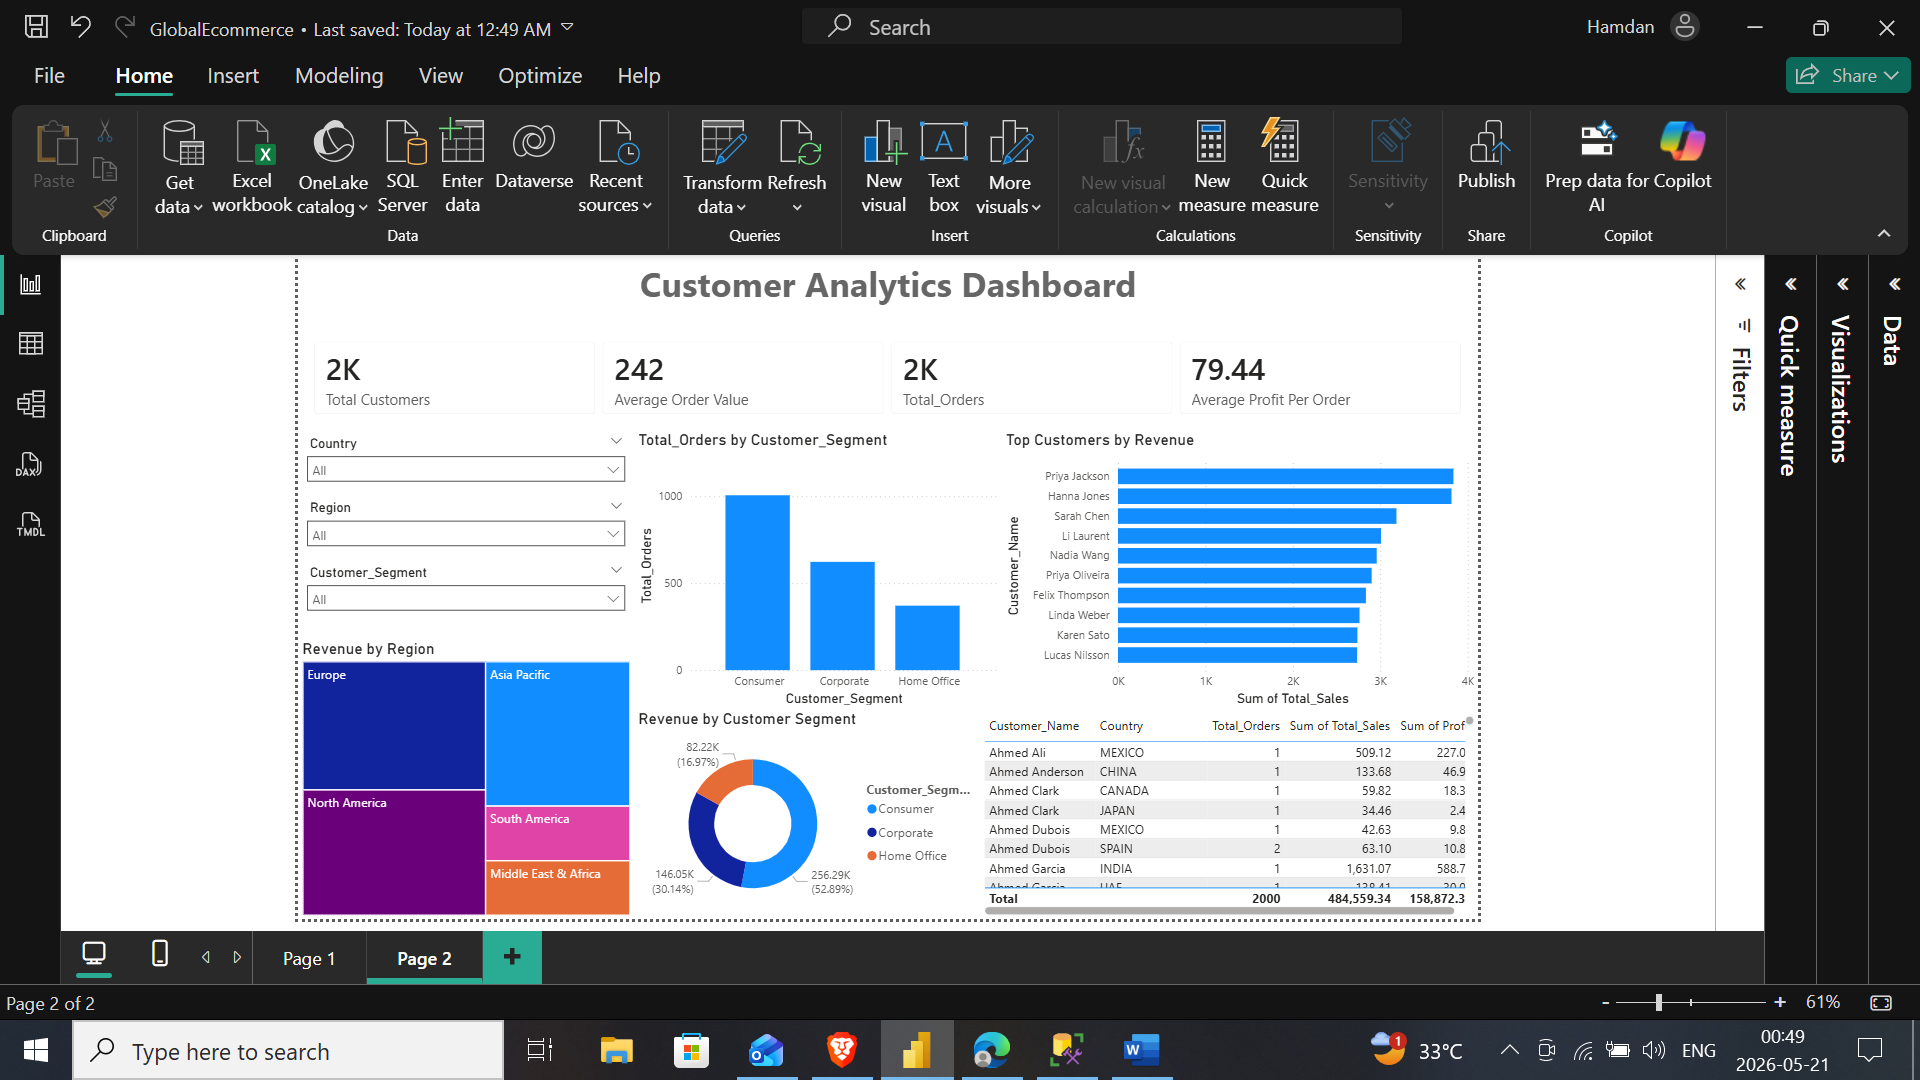

This screenshot's page, from the dashboard's own definition file:
{"tool":"powerbi","page":{"name":"Customer Analytics","canvas":[1280,720],"ordinal":1},"visuals":[{"type":"cardVisual","fields":{"Data":["Global_sales.Total Customers","Global_sales.Average Order Value","Global_sales.Total_Orders","Global_sales.Average Profit Per Order"]},"box":[0,76.4,1280.1,113.9],"z":0},{"type":"barChart","title":"Top Customers by Revenue","fields":{"Category":["Global_sales.Customer_Name"],"Y":["Sum(Global_sales.Total_Sales)"]},"box":[762.8,190.3,517.2,302.5],"z":1000},{"type":"donutChart","title":"Revenue by Customer Segment","fields":{"Category":["Global_sales.Customer_Segment"],"Y":["Sum(Global_sales.Total_Sales)"]},"box":[364.3,492.8,374.1,227.7],"z":2000},{"type":"treemap","title":"Revenue by Region","fields":{"Group":["Global_sales.Region"],"Values":["Sum(Global_sales.Total_Sales)"]},"box":[0,416.4,364.3,304.2],"z":3000},{"type":"columnChart","fields":{"Y":["Global_sales.Total_Orders"],"Category":["Global_sales.Customer_Segment"]},"box":[364.3,190.3,398.5,302.5],"z":4000},{"type":"tableEx","fields":{"Values":["Global_sales.Customer_Name","Global_sales.Country","Global_sales.Total_Orders","Sum(Global_sales.Total_Sales)","Sum(Global_sales.Profit)"]},"box":[738.5,494.5,541.6,226.1],"z":5000},{"type":"slicer","fields":{"Values":["Global_sales.Country"]},"box":[0,190.3,364.3,69.9],"z":6000},{"type":"slicer","fields":{"Values":["Global_sales.Region"]},"box":[0,260.2,364.3,69.9],"z":7000},{"type":"slicer","fields":{"Values":["Global_sales.Customer_Segment"]},"box":[0,330.2,364.3,86.2],"z":8000},{"type":"textbox","box":[0,0,1280.1,76.4],"z":9000}]}

Visuals, with their boxes on the page's 1280x720 design canvas (x1, y1, x2, y2). These are canvas units, not pixel positions in the 1920x1080 screenshot, which may show the page scaled, cropped or inside an application window:
cardVisual - Global_sales.Total Customers x Global_sales.Average Order Value: <box>0,76,1280,190</box>
"Top Customers by Revenue" barChart: <box>763,190,1280,493</box>
"Revenue by Customer Segment" donutChart: <box>364,493,738,720</box>
"Revenue by Region" treemap: <box>0,416,364,721</box>
columnChart - Global_sales.Total_Orders x Global_sales.Customer_Segment: <box>364,190,763,493</box>
tableEx - Global_sales.Customer_Name x Global_sales.Country: <box>738,494,1280,721</box>
slicer - Global_sales.Country: <box>0,190,364,260</box>
slicer - Global_sales.Region: <box>0,260,364,330</box>
slicer - Global_sales.Customer_Segment: <box>0,330,364,416</box>
textbox: <box>0,0,1280,76</box>
